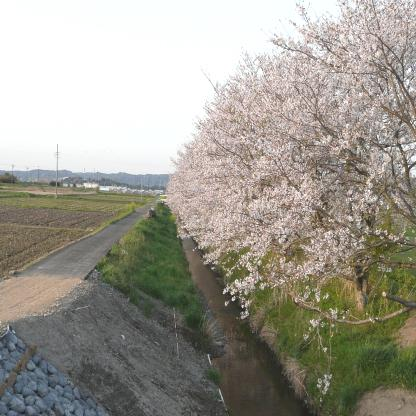Someiyoshino: (166, 4, 411, 302)
